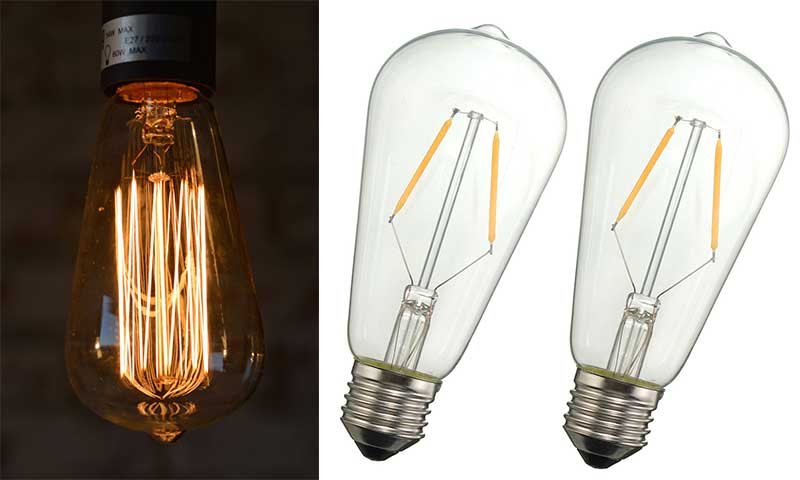Light_bulb: (336, 11, 575, 471), (558, 24, 800, 472), (57, 74, 277, 456)
